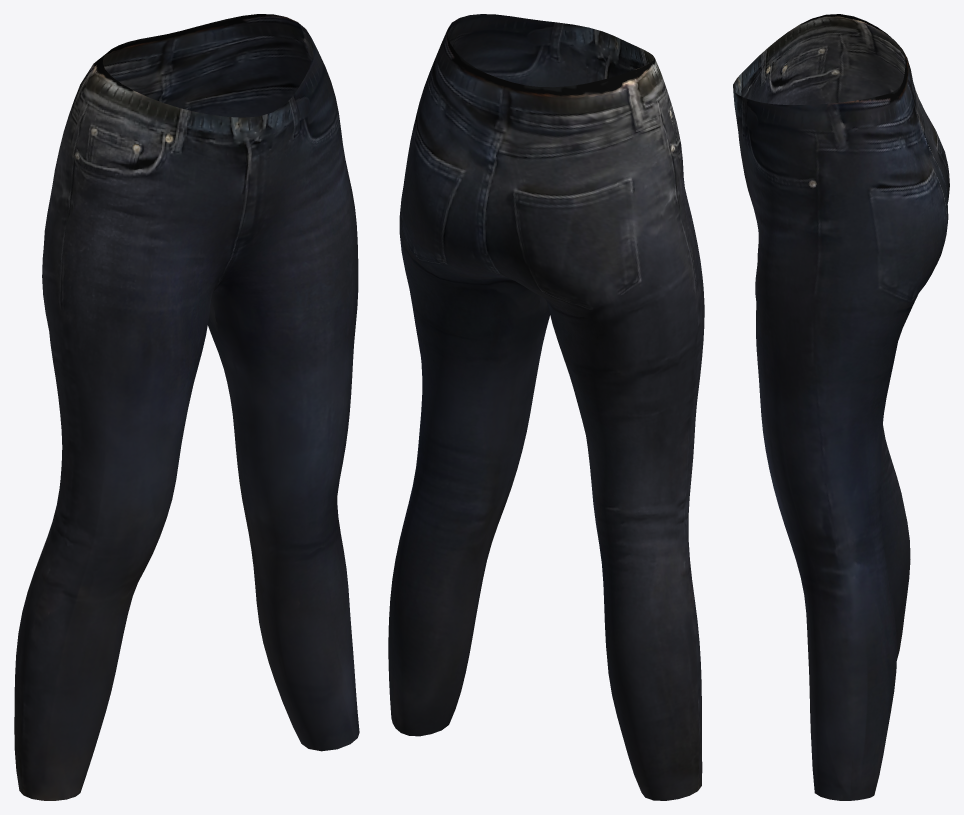
Rendered from pants.glb.
The picture shows the model from 3 angles, left to right: view 1: azimuth 30°, elevation 25°; view 2: azimuth 150°, elevation 25°; view 3: azimuth 270°, elevation 25°; orthographic projection. The views are drawn at different scales.
Visible parts, largest first — view 1: Jeans_01; view 2: Jeans_01; view 3: Jeans_01.
Boxes of the visible parts, x1,y1,x2,y2 form: Jeans_01: [14, 14, 359, 800]; Jeans_01: [388, 14, 704, 800]; Jeans_01: [733, 14, 949, 800].
Bounding box in the file's own units: 2.31 × 4.97 × 1.44.
1 material, 1 textured.
